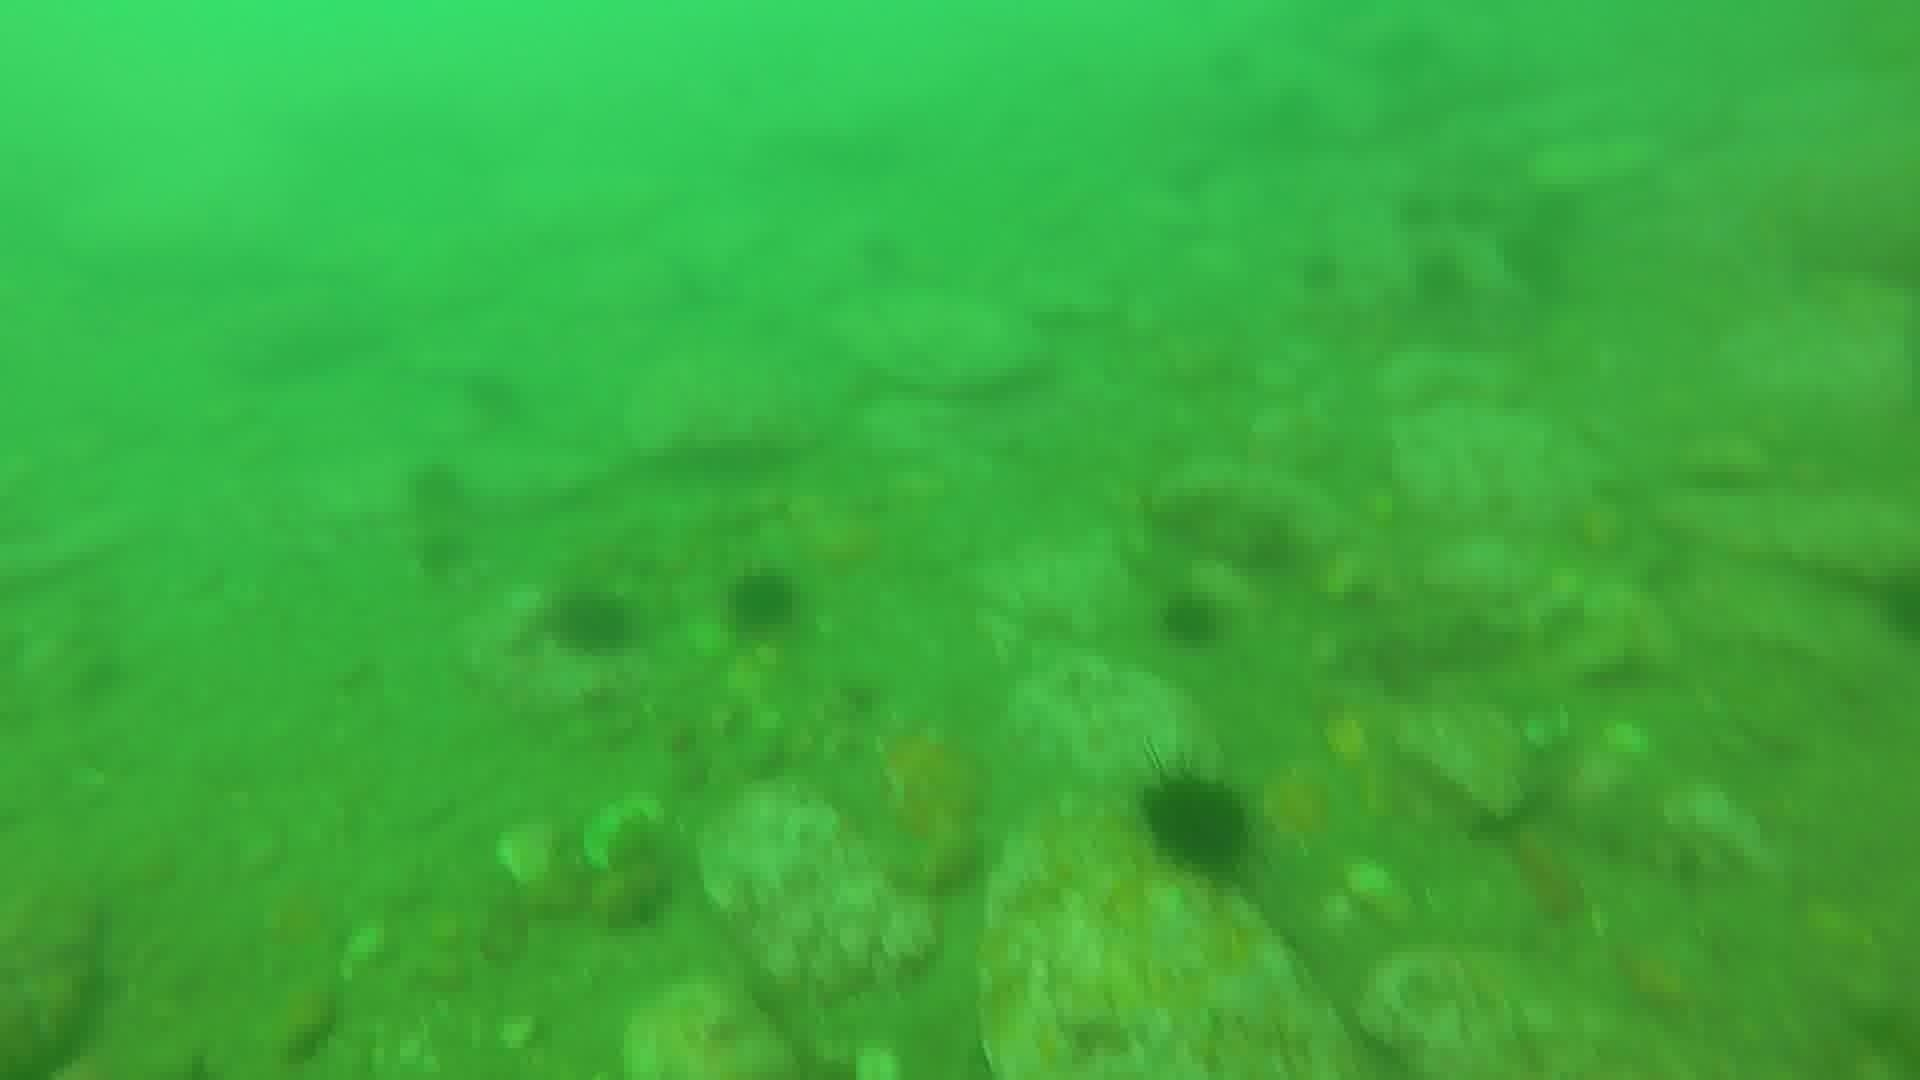echinus: (1134, 765, 1258, 882), (545, 585, 640, 661), (719, 564, 804, 642), (1406, 248, 1476, 316), (1154, 587, 1228, 651), (401, 459, 472, 524), (409, 527, 476, 587)
